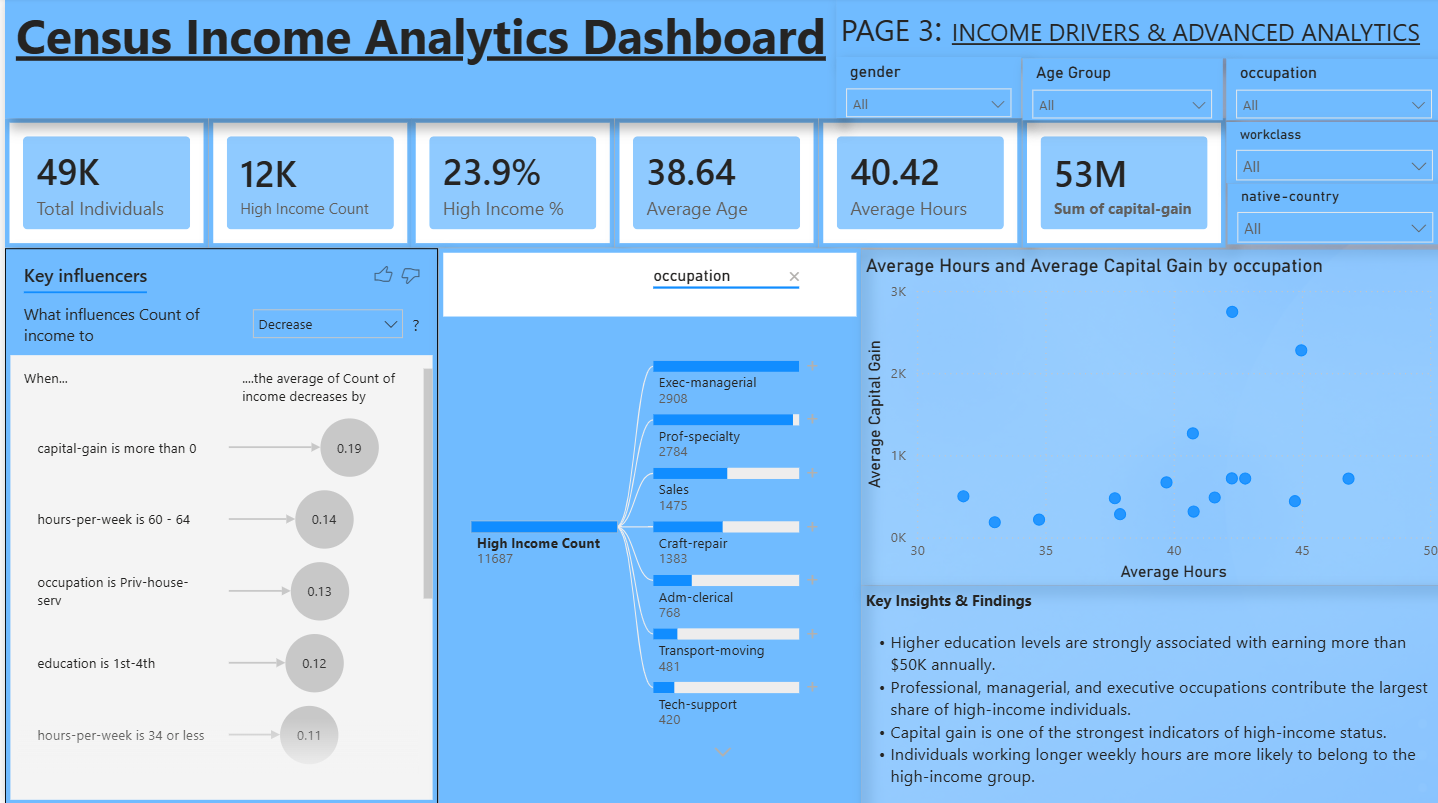

This screenshot's page, from the dashboard's own definition file:
{"tool":"powerbi","page":{"name":"INCOME DRIVERS & ADVANCED ANALYTICS","canvas":[1280,720],"ordinal":2},"visuals":[{"type":"cardVisual","fields":{"Data":["Table.Total Individuals"]},"box":[0,108.4,181.1,115.3],"z":0},{"type":"cardVisual","fields":{"Data":["Table.High Income Count"]},"box":[181.1,108.4,181.1,115.3],"z":1000},{"type":"cardVisual","fields":{"Data":["Table.High Income %"]},"box":[362.3,108.4,181.1,115.3],"z":2000},{"type":"cardVisual","fields":{"Data":["Table.Average Age"]},"box":[543.4,108.4,181.1,115.3],"z":3000},{"type":"cardVisual","fields":{"Data":["Table.Average Hours"]},"box":[724.5,108.4,181.1,115.3],"z":4000},{"type":"cardVisual","fields":{"Data":["Sum(Fact_AdultIncome.capital-gain)"]},"box":[905.7,108.4,181.1,115.3],"z":5000},{"type":"textbox","box":[0,0,740.7,108.1],"z":6000},{"type":"textbox","box":[740.7,1.2,539.5,53.5],"z":7000},{"type":"slicer","fields":{"Values":["Fact_AdultIncome.gender"]},"box":[740.7,53.5,165.1,54.7],"z":8000},{"type":"slicer","fields":{"Values":["Fact_AdultIncome.Age Group"]},"box":[906.2,54.3,178.2,55.5],"z":9000},{"type":"slicer","fields":{"Values":["Fact_AdultIncome.occupation"]},"box":[1087.9,54.3,192.3,55.5],"z":10000},{"type":"slicer","fields":{"Values":["Fact_AdultIncome.workclass"]},"box":[1087.2,111.6,193,54],"z":11000},{"type":"slicer","fields":{"Values":["Fact_AdultIncome.native-country"]},"box":[1088.4,166.3,191.9,54.7],"z":12000},{"type":"keyDriversVisual","fields":{"Target":["Fact_AdultIncome.income"],"ExplainBy":["Fact_AdultIncome.education","Sum(Fact_AdultIncome.age)","Fact_AdultIncome.occupation","Fact_AdultIncome.gender","Fact_AdultIncome.capital-gain","Fact_AdultIncome.hours-per-week","Fact_AdultIncome.workclass"]},"box":[0,223.6,385.9,496],"z":13000},{"type":"decompositionTreeVisual","fields":{"Analyze":["Table.High Income Count"],"ExplainBy":["Fact_AdultIncome.occupation","Fact_AdultIncome.workclass","Fact_AdultIncome.Age Group","Fact_AdultIncome.education","Fact_AdultIncome.gender"]},"box":[385.9,223.6,376.3,496.3],"z":14000},{"type":"scatterChart","fields":{"Category":["Fact_AdultIncome.occupation"],"X":["Table.Average Hours"],"Y":["Table.Average Capital Gain"]},"box":[762.5,224.9,517.6,299.4],"z":15000},{"type":"textbox","box":[762.5,524.3,517.6,195.9],"z":16000}]}

Visuals, with their boxes in screenshot pixels (x1, y1, x2, y2), scaled from the page's 1280x720 canvas onto the 1438x803 screenshot:
cardVisual - Table.Total Individuals: rect(0, 121, 203, 249)
cardVisual - Table.High Income Count: rect(203, 121, 407, 249)
cardVisual - Table.High Income %: rect(407, 121, 610, 249)
cardVisual - Table.Average Age: rect(610, 121, 814, 249)
cardVisual - Table.Average Hours: rect(814, 121, 1017, 249)
cardVisual - Sum(Fact_AdultIncome.capital-gain): rect(1017, 121, 1221, 249)
textbox: rect(0, 0, 832, 121)
textbox: rect(832, 1, 1437, 61)
slicer - Fact_AdultIncome.gender: rect(832, 60, 1018, 121)
slicer - Fact_AdultIncome.Age Group: rect(1018, 61, 1218, 122)
slicer - Fact_AdultIncome.occupation: rect(1222, 61, 1437, 122)
slicer - Fact_AdultIncome.workclass: rect(1221, 124, 1437, 185)
slicer - Fact_AdultIncome.native-country: rect(1223, 185, 1437, 246)
keyDriversVisual - Fact_AdultIncome.income x Fact_AdultIncome.education: rect(0, 249, 434, 802)
decompositionTreeVisual - Table.High Income Count x Fact_AdultIncome.occupation: rect(434, 249, 856, 802)
scatterChart - Fact_AdultIncome.occupation x Table.Average Hours: rect(857, 251, 1437, 585)
textbox: rect(857, 585, 1437, 802)
